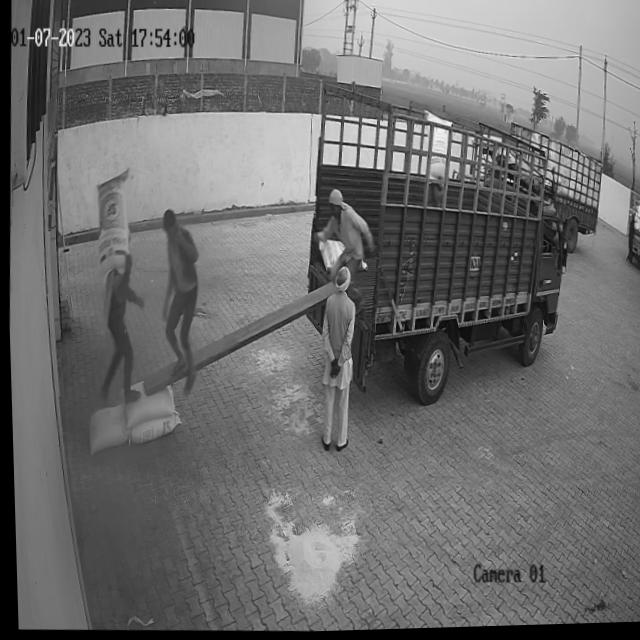sack: (90, 168, 132, 280), (119, 380, 173, 428), (83, 403, 125, 457), (125, 411, 178, 446)
